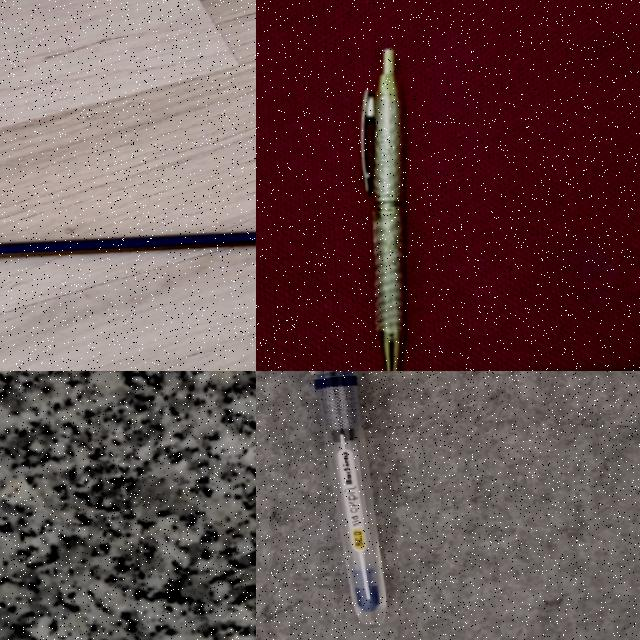pen: (310, 371, 385, 625)
pencil: (0, 232, 255, 257)
signature pen: (356, 47, 406, 371)
